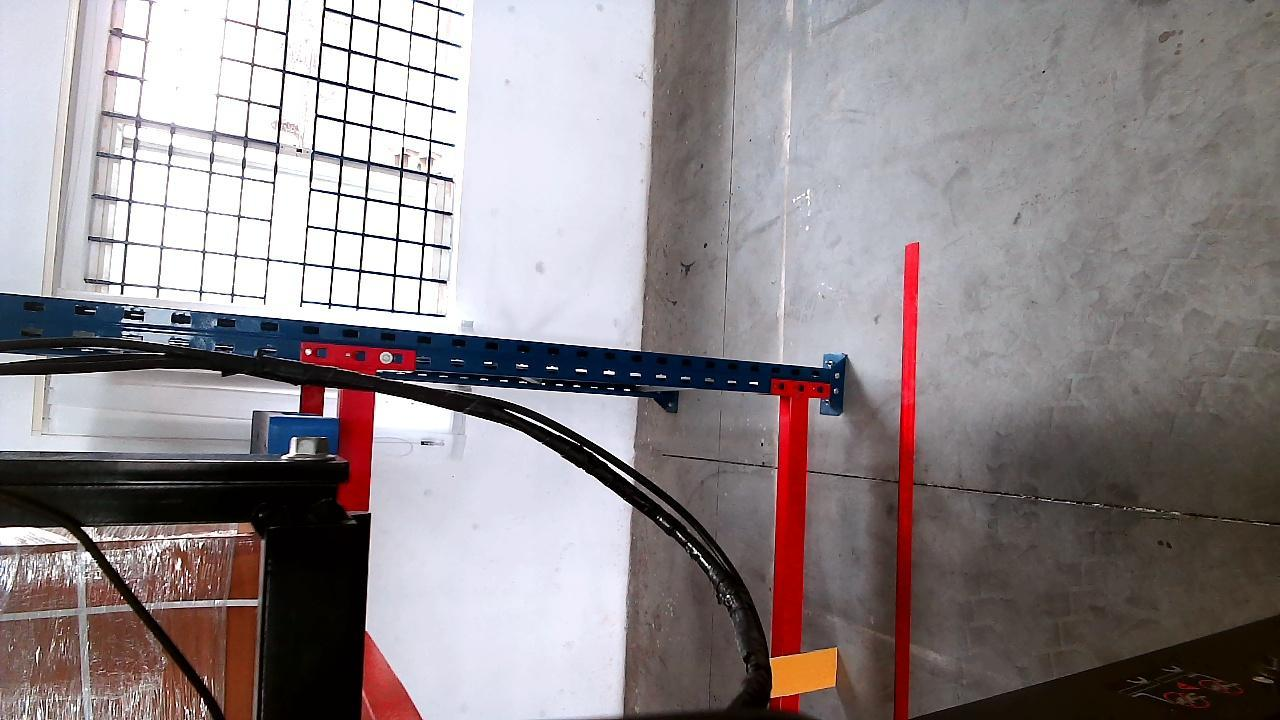red_line: (892, 239, 920, 719)
